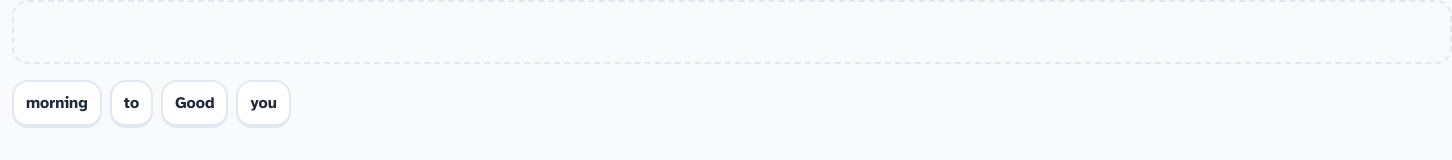
Test case: StepsOrder (words-Mode) › zeigt kompakte Chips: Wortbank unten, Antwortzeile oben
Click the button "Good": point(195, 104) [161,80,228,128]
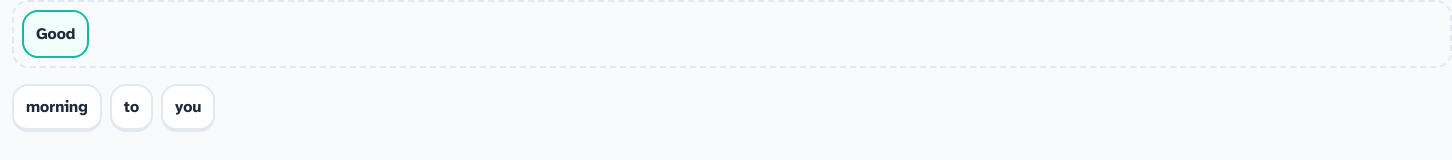
Expected: the button with test id "slot-card" reads "Good", [22,10,89,58]
Expected: the number of buttons with test id "pool-card" is 3, [12,84,102,132]; [110,84,153,132]; [161,84,216,132]
